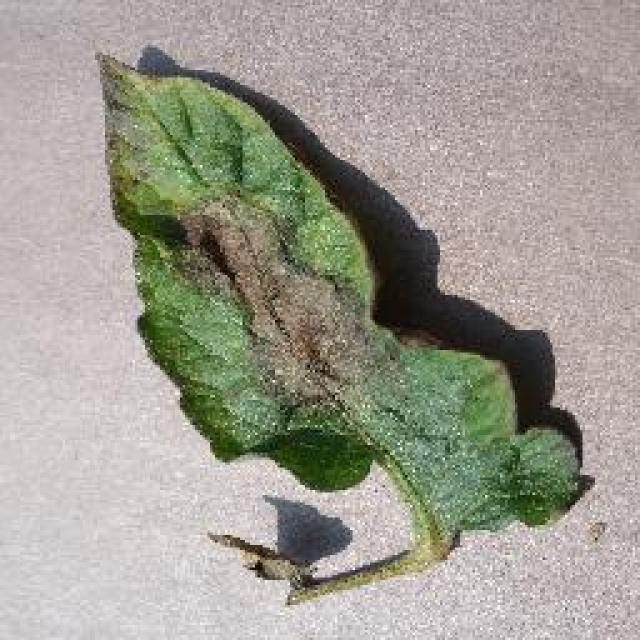Tomato Late Blight: (135, 138, 445, 468)
